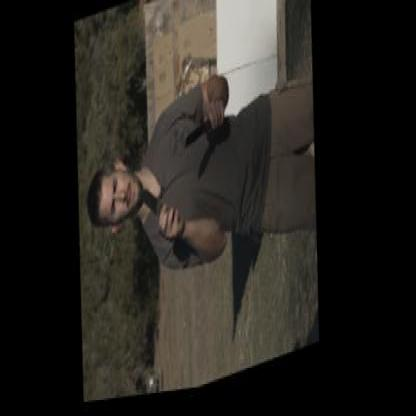knife: (132, 177, 181, 251), (180, 103, 228, 160)
